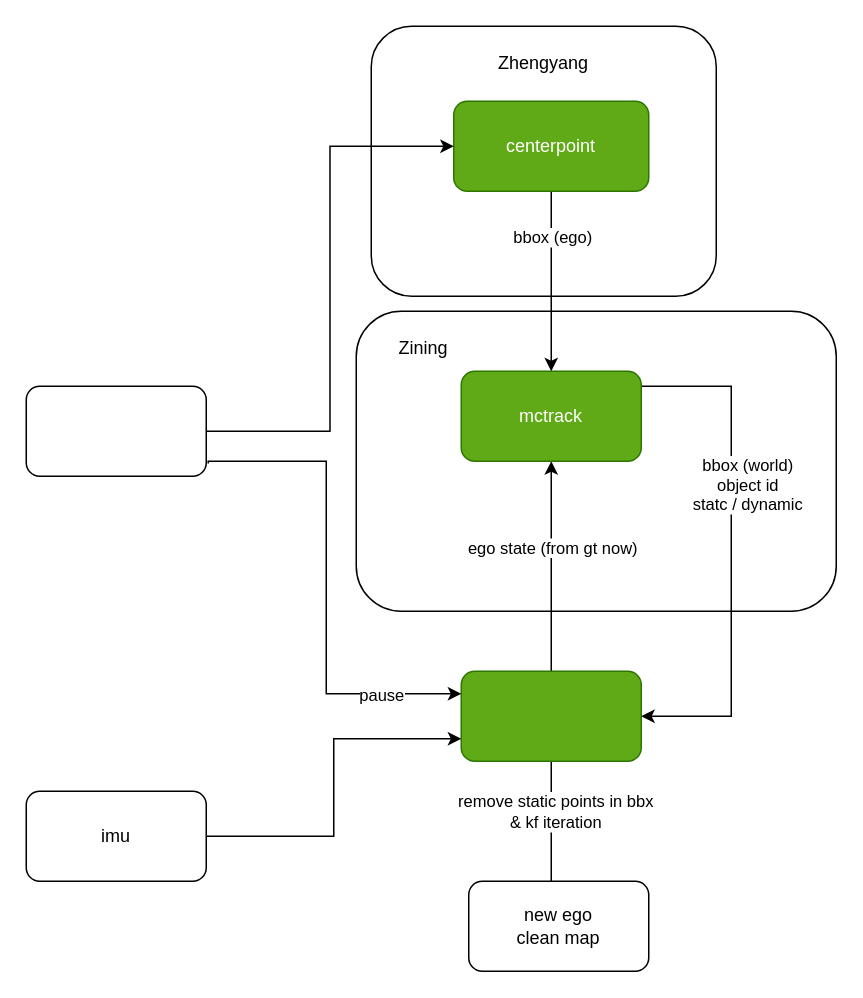
Image size: 863x998. Some labels were removed from this diagram. The centre of each missing label's shape, as x and y in pixels:
Fast-lio: pixel 550 715
Point cloud: pixel 115 430
